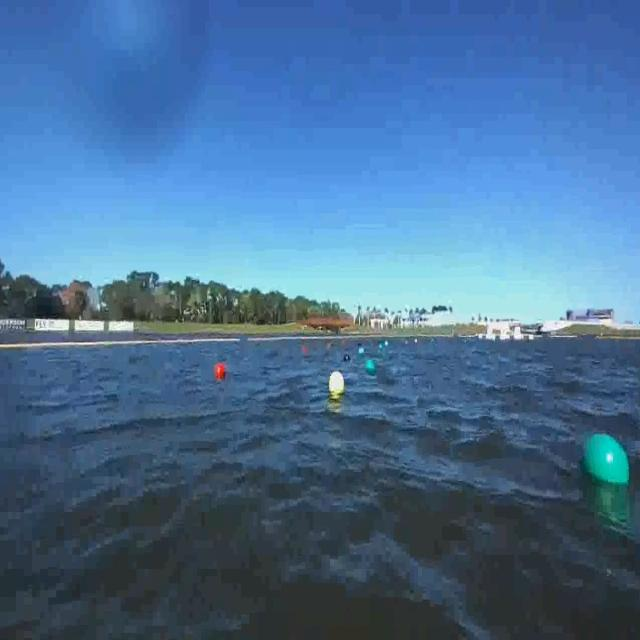black-buoy: (344, 354, 350, 362)
green-buoy: (577, 431, 632, 492), (364, 357, 374, 374)
red-buoy: (215, 362, 227, 379)
yellow-buoy: (329, 370, 346, 398)
